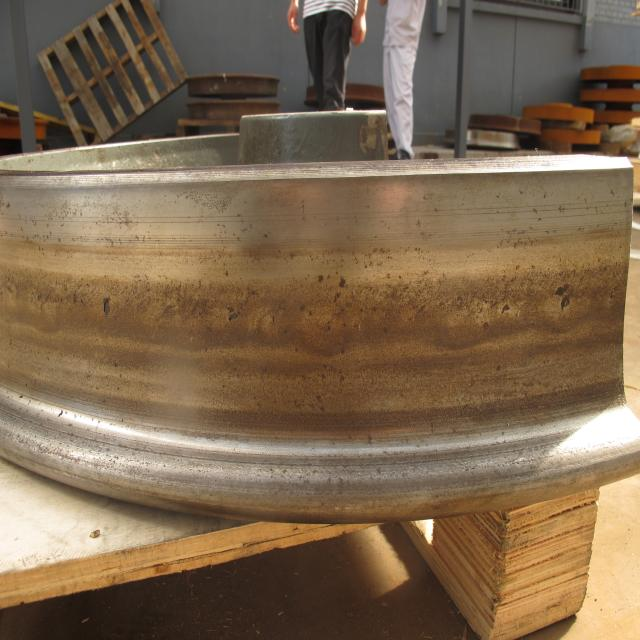Contact_Fatigue_Cracks: (362, 283, 526, 343), (206, 289, 352, 349), (111, 279, 202, 320), (3, 273, 86, 308), (598, 279, 627, 328), (557, 286, 575, 314), (104, 300, 109, 318)
